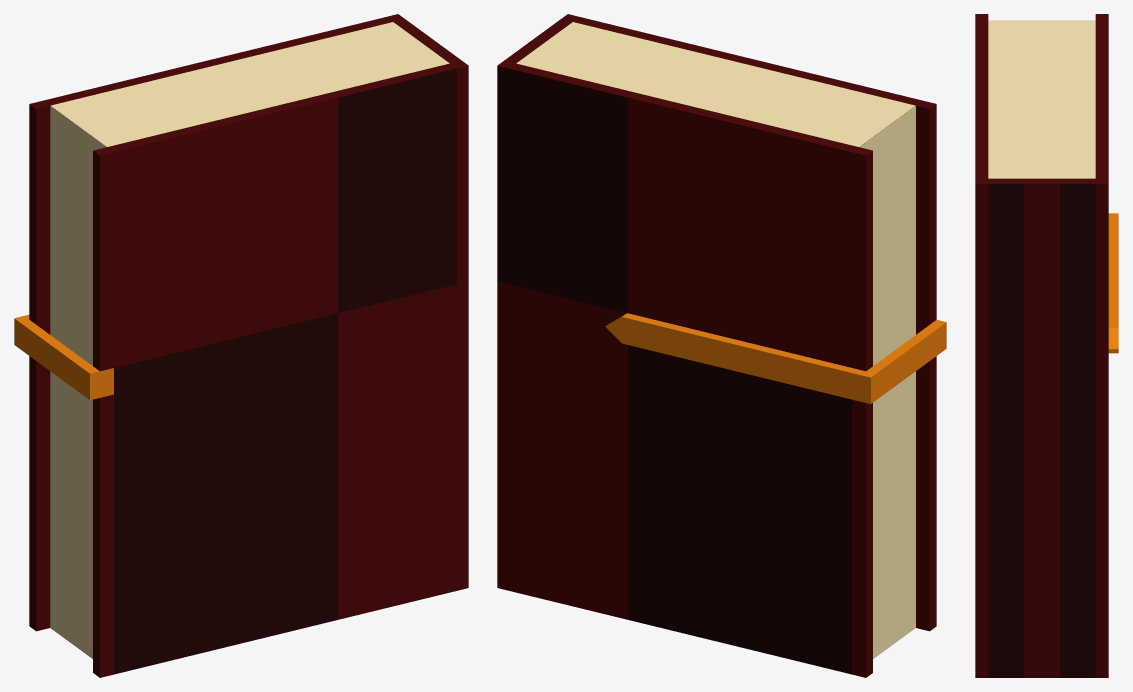
The model's file is DIARIO.FBX.
The picture shows the model from 3 angles, left to right: view 1: azimuth 30°, elevation 25°; view 2: azimuth 150°, elevation 25°; view 3: azimuth 270°, elevation 25°; orthographic projection. The views are drawn at different scales.
Visible parts, largest first — view 1: Box002; view 2: Box002; view 3: Box002.
Boxes of the visible parts, left/top/right/bottom form: Box002: left=14, top=14, right=468, bottom=677; Box002: left=497, top=14, right=946, bottom=677; Box002: left=975, top=14, right=1118, bottom=677.
Bounding box in the file's own units: 30.21 × 39.81 × 10.48.
